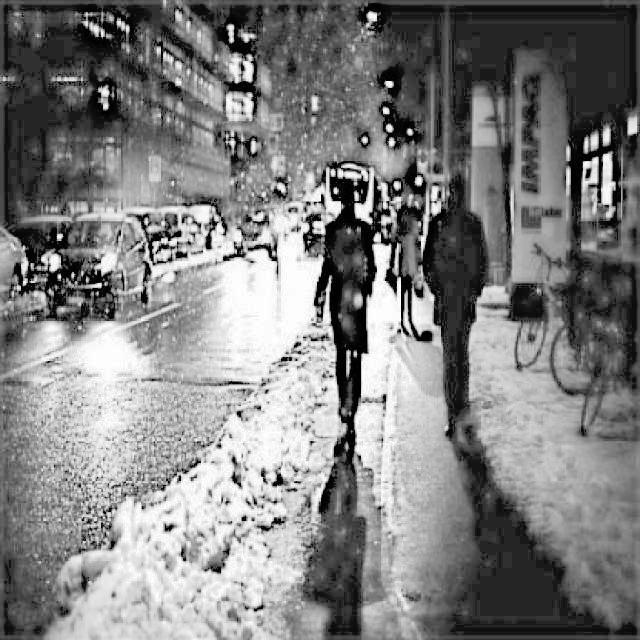Person: (421, 173, 492, 436), (314, 186, 377, 445)
